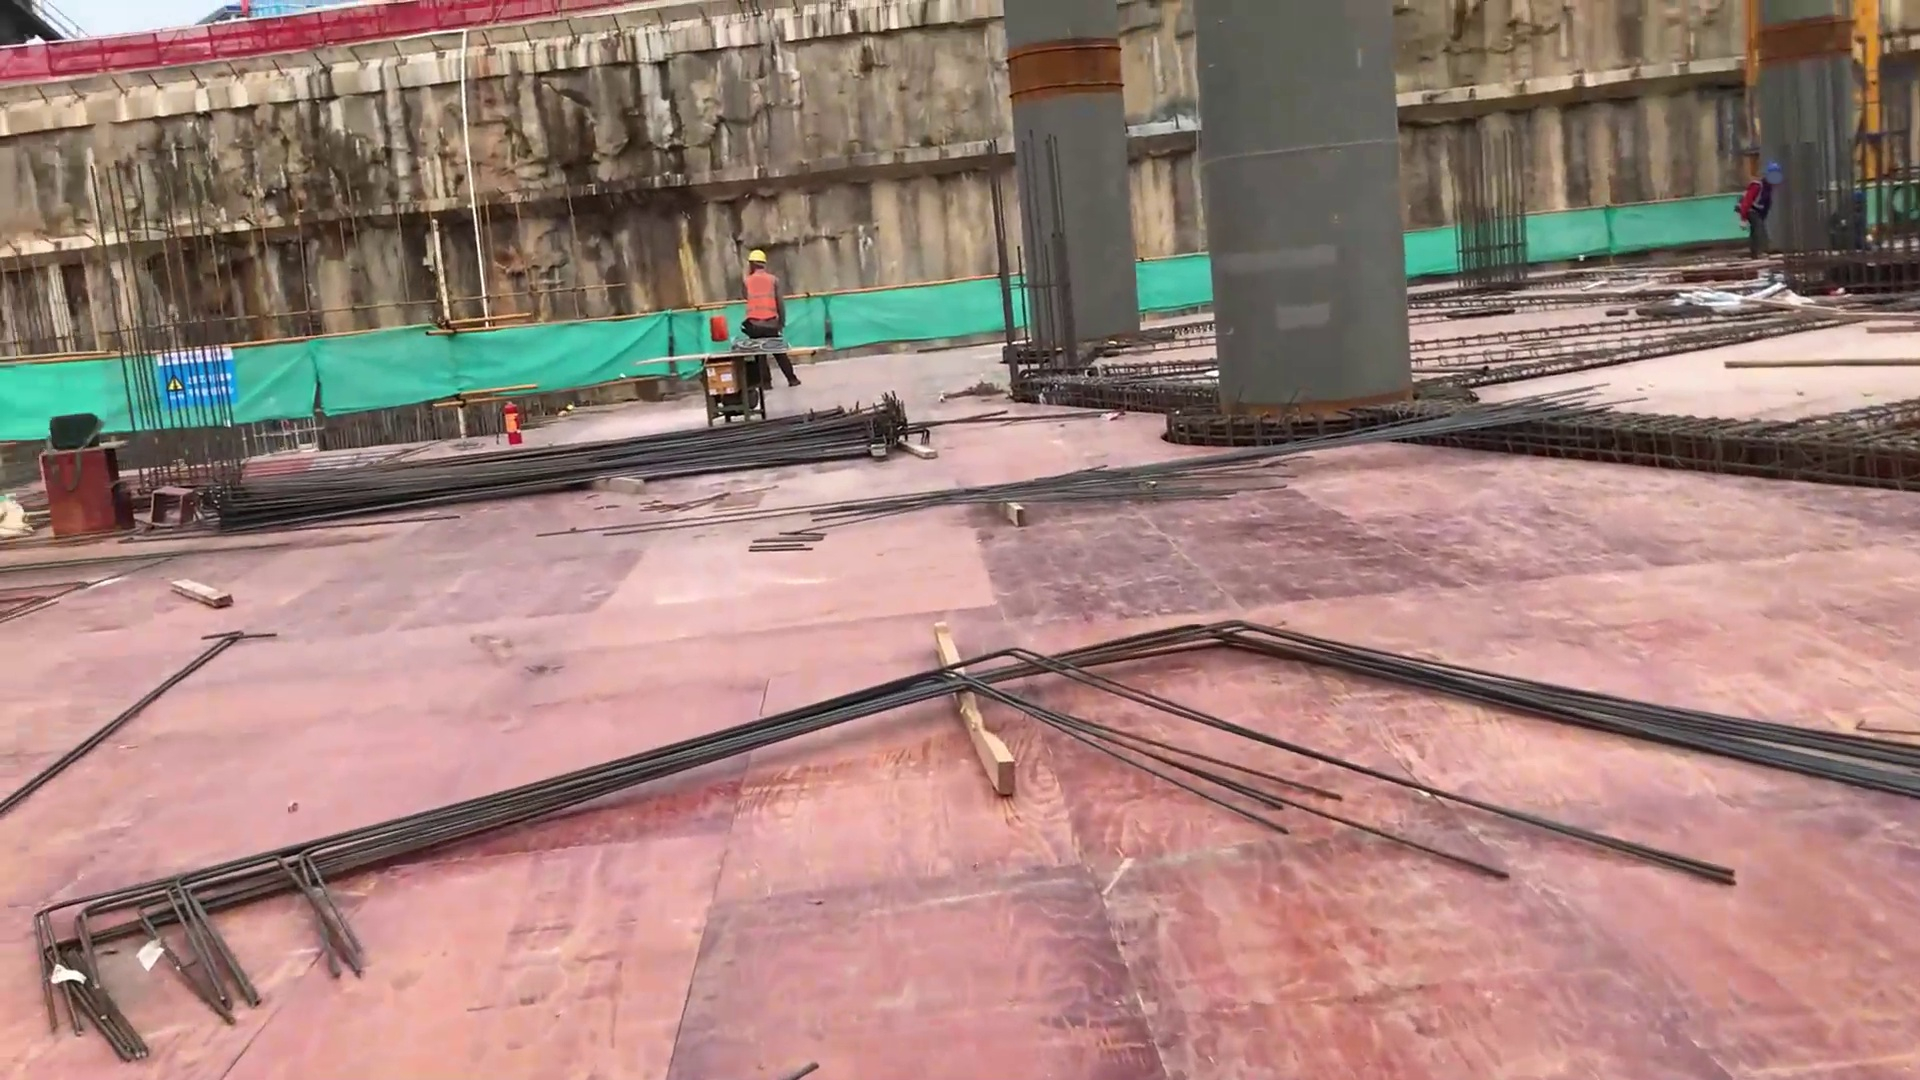cutter: (635, 341, 835, 425)
fence: (1, 1, 597, 80)
helmet: (745, 246, 768, 270), (1759, 160, 1785, 179)
person: (738, 246, 804, 392), (1734, 158, 1785, 259)
rebar: (37, 613, 1241, 1061), (220, 395, 914, 523)
slogan: (153, 346, 238, 408)
vest: (739, 269, 779, 322), (1733, 178, 1772, 222)
